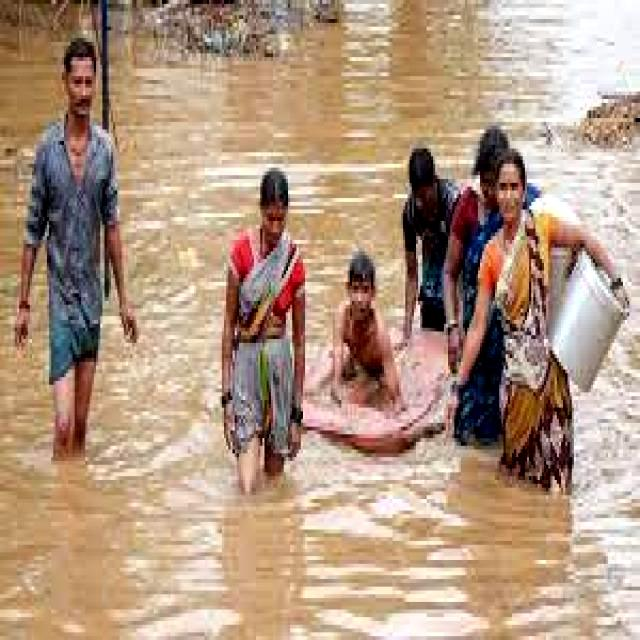civilian: (449, 164, 640, 501), (0, 30, 142, 472), (211, 162, 315, 506), (437, 106, 534, 457), (373, 140, 462, 360), (320, 246, 407, 424)
